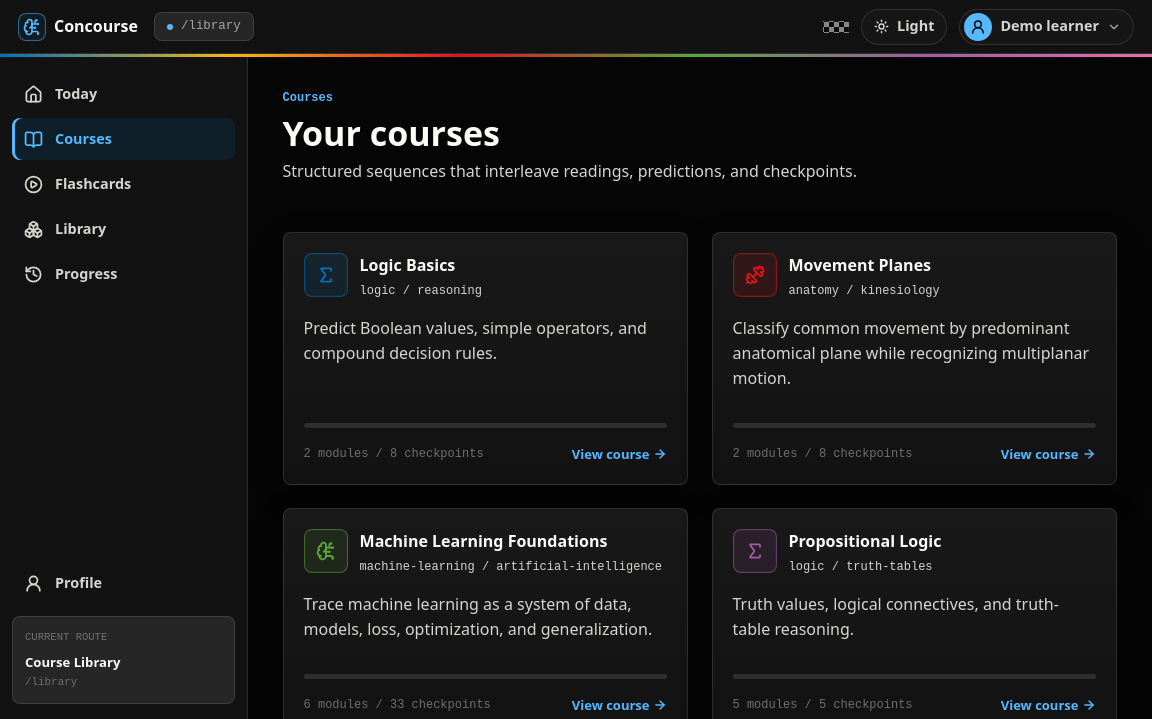
Scenario: Learning Pack library UI › opens an embedded teaching resource from the ordered pack sequence
Click the link "Library": (65,229) [24,219,106,238]
(page scrolled)
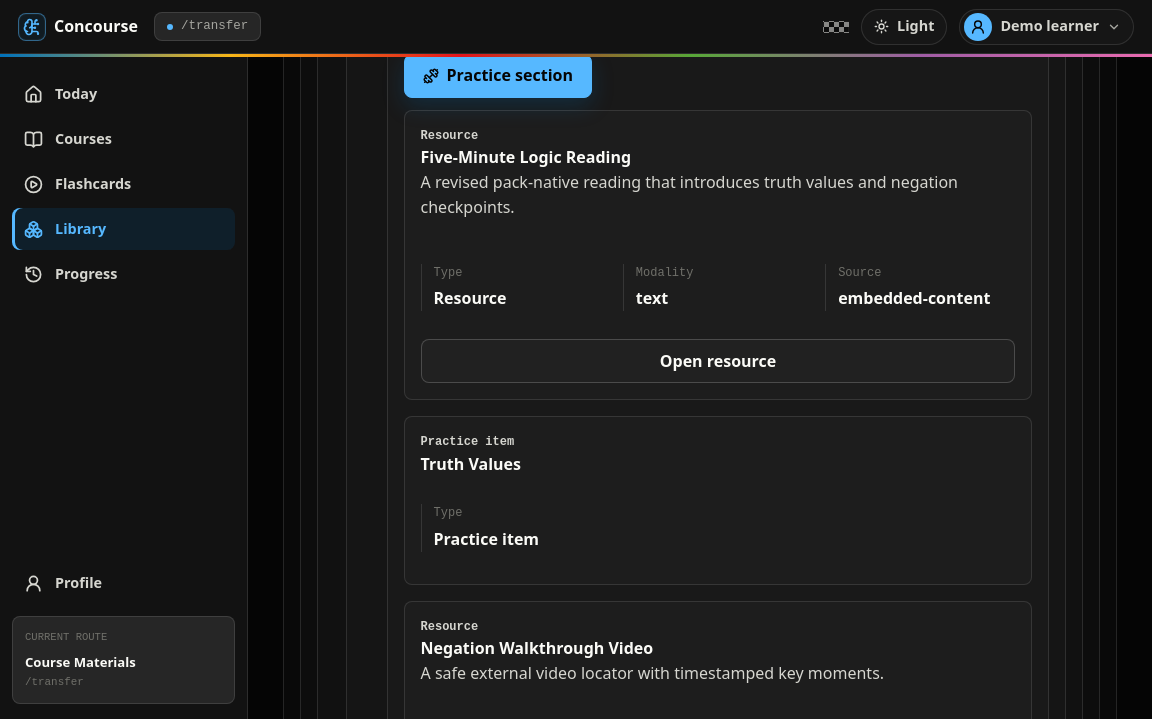
Click the link "Open resource": (718,361) [420,339,1015,383]
(page scrolled)
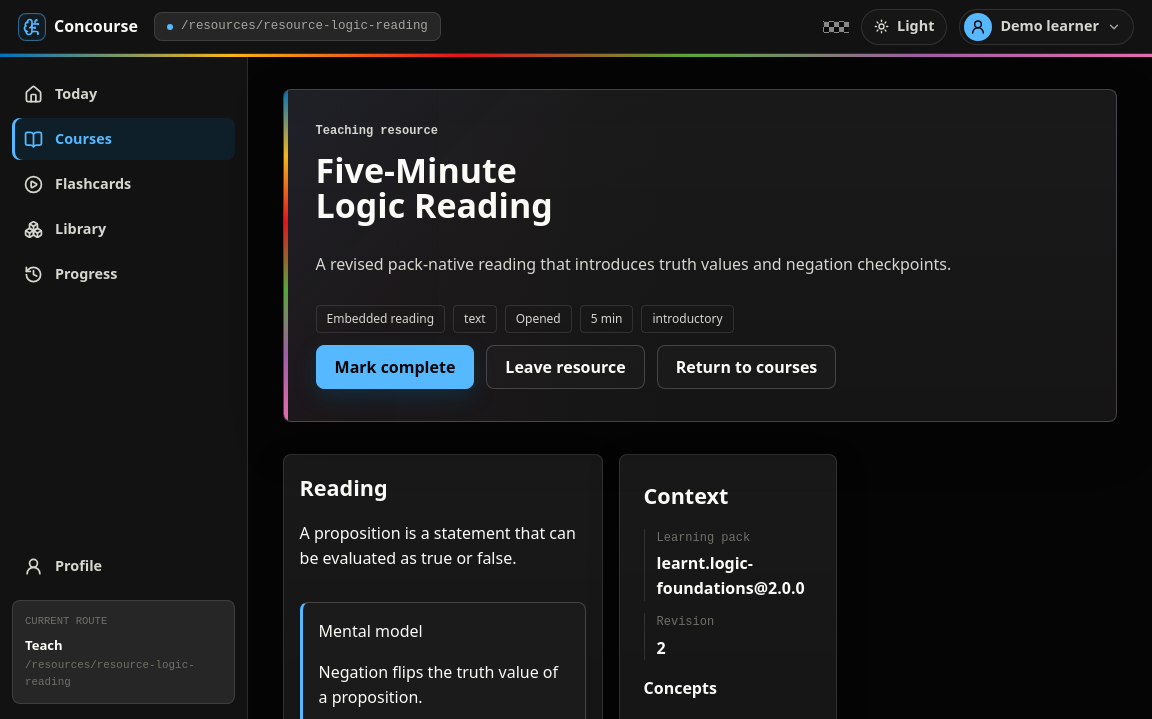
Check: the heading "Five-Minute Logic Reading" is shown, box [316,147,553,228]
Check: the text "A proposition is a statement that can be evaluated as true or false." is shown, box [300,521,586,570]
Check: the text "Negation flips the truth value of a proposition." is shown, box [318,660,568,710]
Click the button "Mark complete": (395,367) [316,345,474,389]
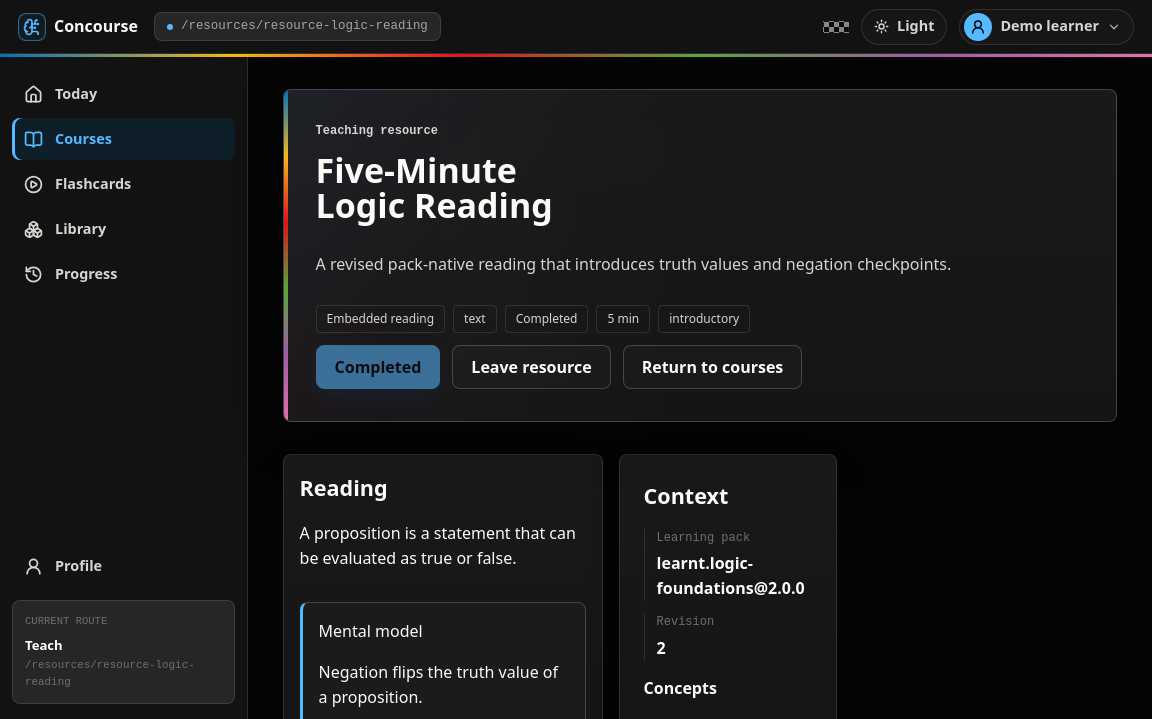
Check: the button "Completed" is shown, box [316,345,440,389]
